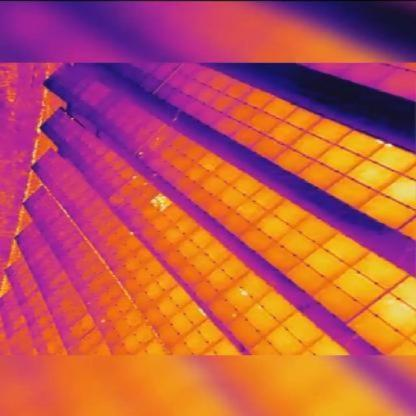anomaly: (150, 192, 173, 214)
